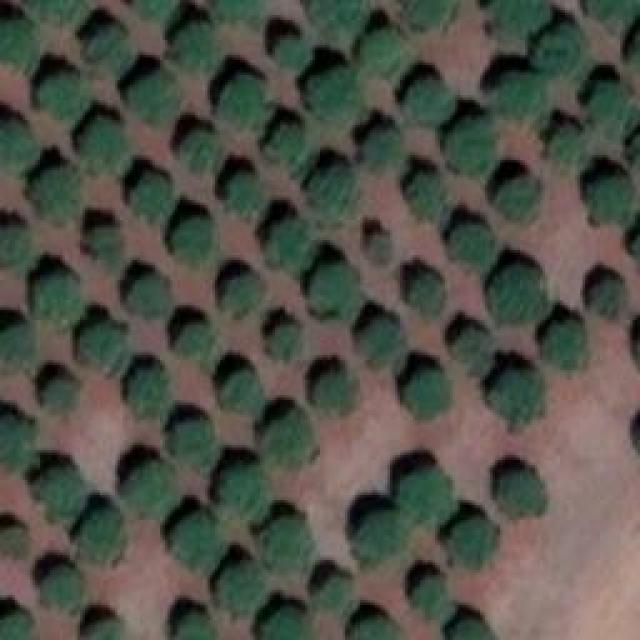Tree: (213, 75, 278, 130), (72, 505, 130, 565), (485, 70, 545, 128), (442, 118, 500, 178), (260, 408, 315, 471), (485, 365, 543, 423), (490, 265, 548, 323), (302, 165, 360, 223), (353, 508, 406, 571), (120, 460, 175, 520), (400, 465, 455, 523), (538, 23, 593, 78), (305, 70, 360, 125), (258, 515, 311, 570), (583, 83, 636, 138), (400, 78, 455, 131), (263, 218, 316, 273), (305, 0, 368, 45), (213, 563, 266, 616), (400, 365, 453, 418), (33, 273, 86, 326), (585, 175, 640, 225), (447, 515, 495, 570), (35, 463, 83, 518), (490, 172, 545, 220), (310, 260, 358, 315), (77, 118, 125, 173), (215, 462, 260, 520), (77, 25, 135, 70), (35, 168, 83, 221), (123, 72, 176, 120), (355, 28, 403, 81), (175, 510, 220, 565), (0, 415, 40, 475), (122, 365, 170, 415), (170, 20, 218, 70), (493, 0, 553, 40), (495, 467, 543, 515), (217, 367, 265, 415), (125, 170, 173, 218), (170, 415, 215, 465), (310, 373, 360, 418), (445, 225, 493, 270), (220, 273, 268, 318), (360, 320, 403, 370), (545, 318, 588, 368), (550, 123, 593, 173), (123, 273, 166, 323), (85, 225, 128, 273), (175, 128, 223, 171), (360, 128, 405, 173), (43, 563, 83, 613), (0, 20, 42, 67), (585, 278, 630, 321), (78, 325, 123, 368), (40, 73, 85, 116), (0, 118, 35, 173), (408, 175, 448, 223), (170, 215, 210, 263), (173, 320, 216, 363), (223, 170, 266, 213), (268, 125, 311, 168), (257, 607, 312, 640), (415, 573, 455, 618), (402, 0, 457, 32), (310, 575, 353, 615), (403, 275, 446, 315), (260, 320, 303, 360), (452, 328, 490, 373), (27, 0, 85, 28), (0, 328, 40, 368), (0, 220, 35, 265), (40, 375, 78, 415), (588, 0, 638, 30), (170, 610, 215, 640), (207, 0, 267, 22), (360, 233, 395, 266), (355, 615, 400, 640), (127, 0, 177, 22), (0, 525, 28, 563), (0, 615, 42, 640), (625, 23, 640, 86), (275, 35, 305, 65), (453, 620, 496, 640), (85, 620, 123, 640)
